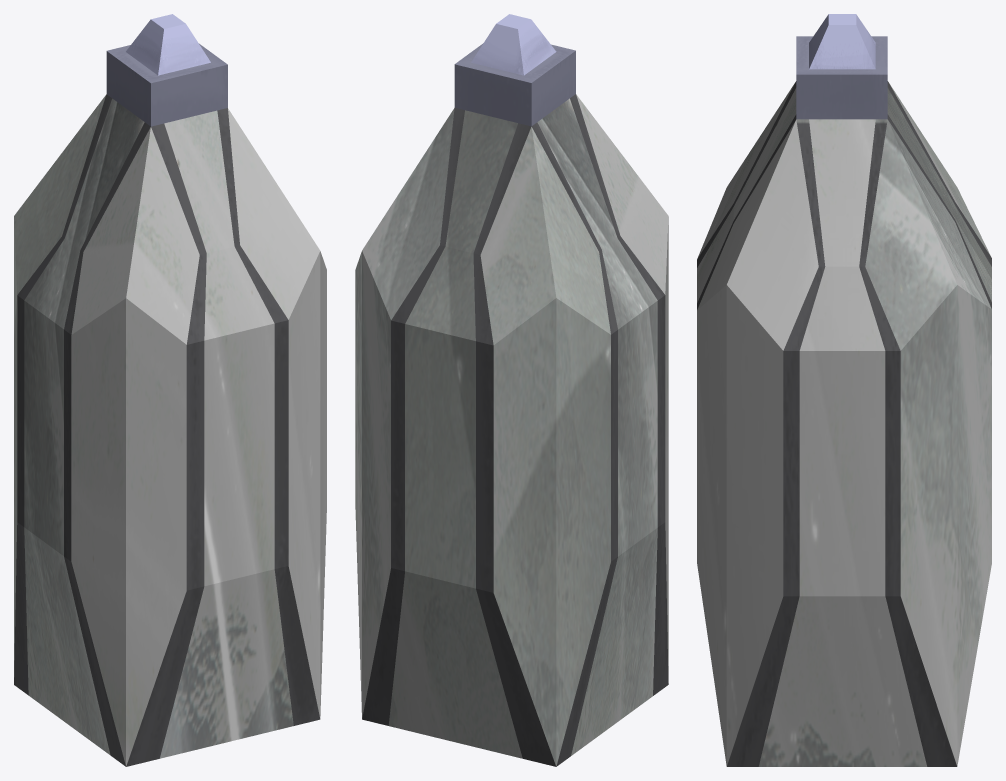
Rendered from Bottlenontransparent.fbx.
3 renders of one model, left to right at view 1: azimuth 30°, elevation 25°; view 2: azimuth 150°, elevation 25°; view 3: azimuth 270°, elevation 25°, orthographic. The views are drawn at different scales.
Visible parts, largest first — view 1: Bottle; view 2: Bottle; view 3: Bottle.
Boxes of the visible parts, bbox=[...] form: Bottle: bbox=[14, 14, 326, 766]; Bottle: bbox=[355, 14, 668, 766]; Bottle: bbox=[697, 14, 991, 766].
Bounding box in the file's own units: 78.5 × 201 × 76.71.
1 material, 1 textured.
